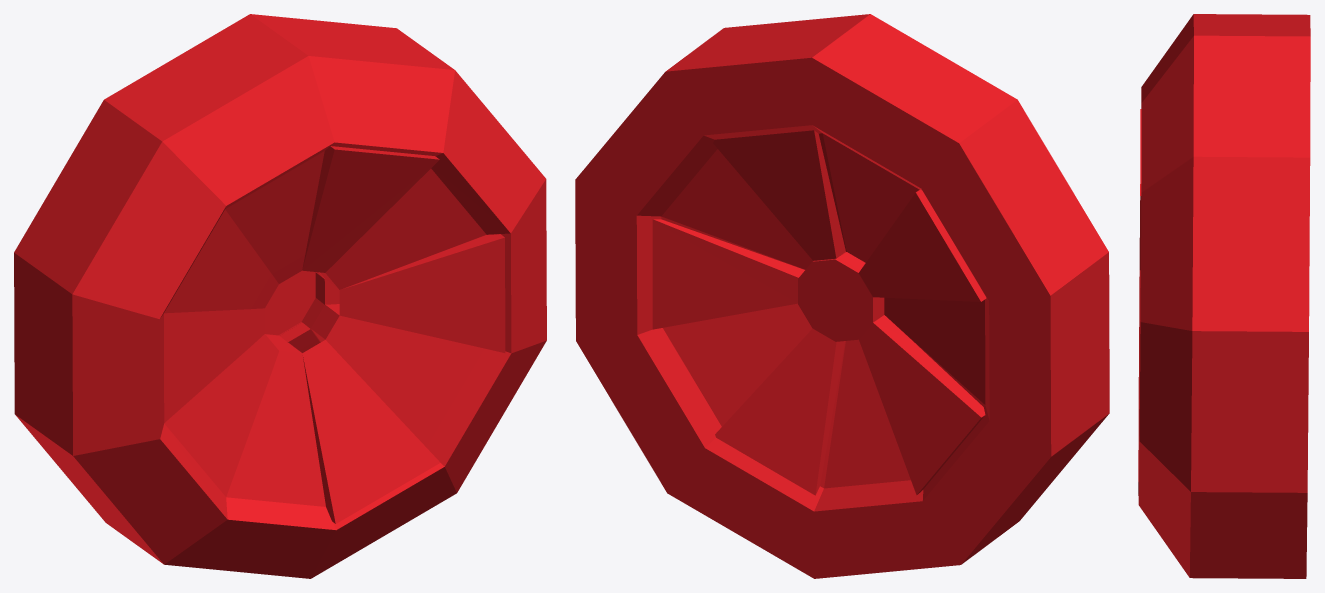
File: wheel.dae
The picture shows the model from 3 angles, left to right: view 1: azimuth 30°, elevation 25°; view 2: azimuth 150°, elevation 25°; view 3: azimuth 270°, elevation 25°; orthographic projection.
Parts seen in each view (by area): view 1: RightFront; view 2: RightFront; view 3: RightFront.
Part boxes in pixels (x1=…): RightFront: x1=14, y1=14, x2=546, y2=578; RightFront: x1=575, y1=14, x2=1109, y2=578; RightFront: x1=1138, y1=14, x2=1310, y2=578.
Bounding box in the file's own units: 0.6657 × 0.2099 × 0.7011.
1 material, 1 textured.
